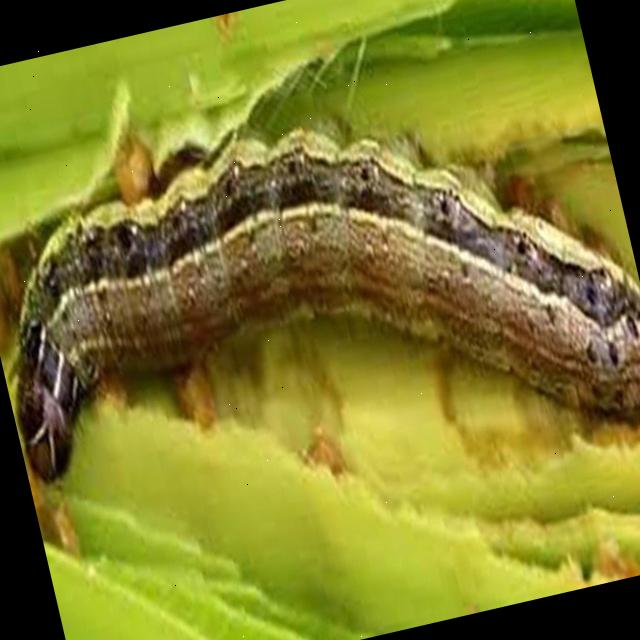worm: (1, 1, 640, 568)
